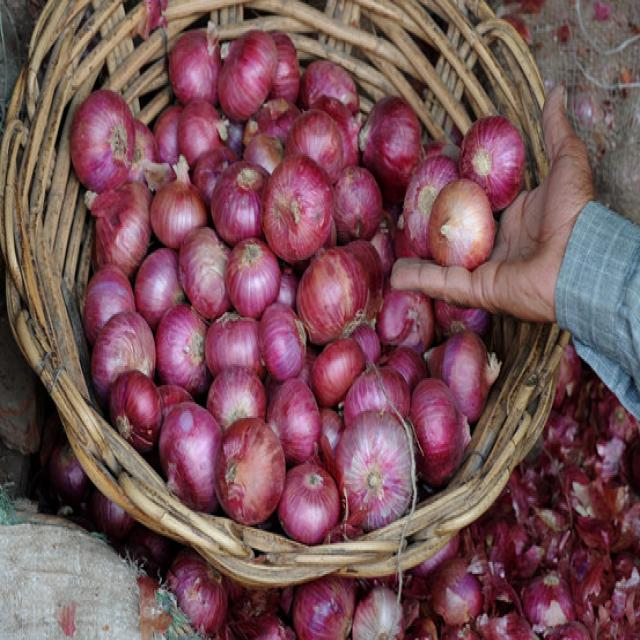onion: (337, 410, 416, 516), (216, 415, 280, 529), (266, 156, 335, 258), (65, 90, 134, 190), (294, 245, 368, 336), (159, 403, 216, 507), (433, 180, 495, 272), (463, 114, 533, 190), (413, 378, 461, 482), (362, 94, 418, 182), (219, 31, 276, 116), (91, 311, 156, 381), (212, 159, 266, 239), (281, 465, 337, 539), (180, 223, 225, 314), (161, 304, 203, 392), (276, 378, 318, 460), (228, 243, 276, 314), (258, 303, 304, 377), (169, 27, 214, 101), (136, 246, 183, 316), (148, 180, 200, 242), (204, 314, 256, 368)
